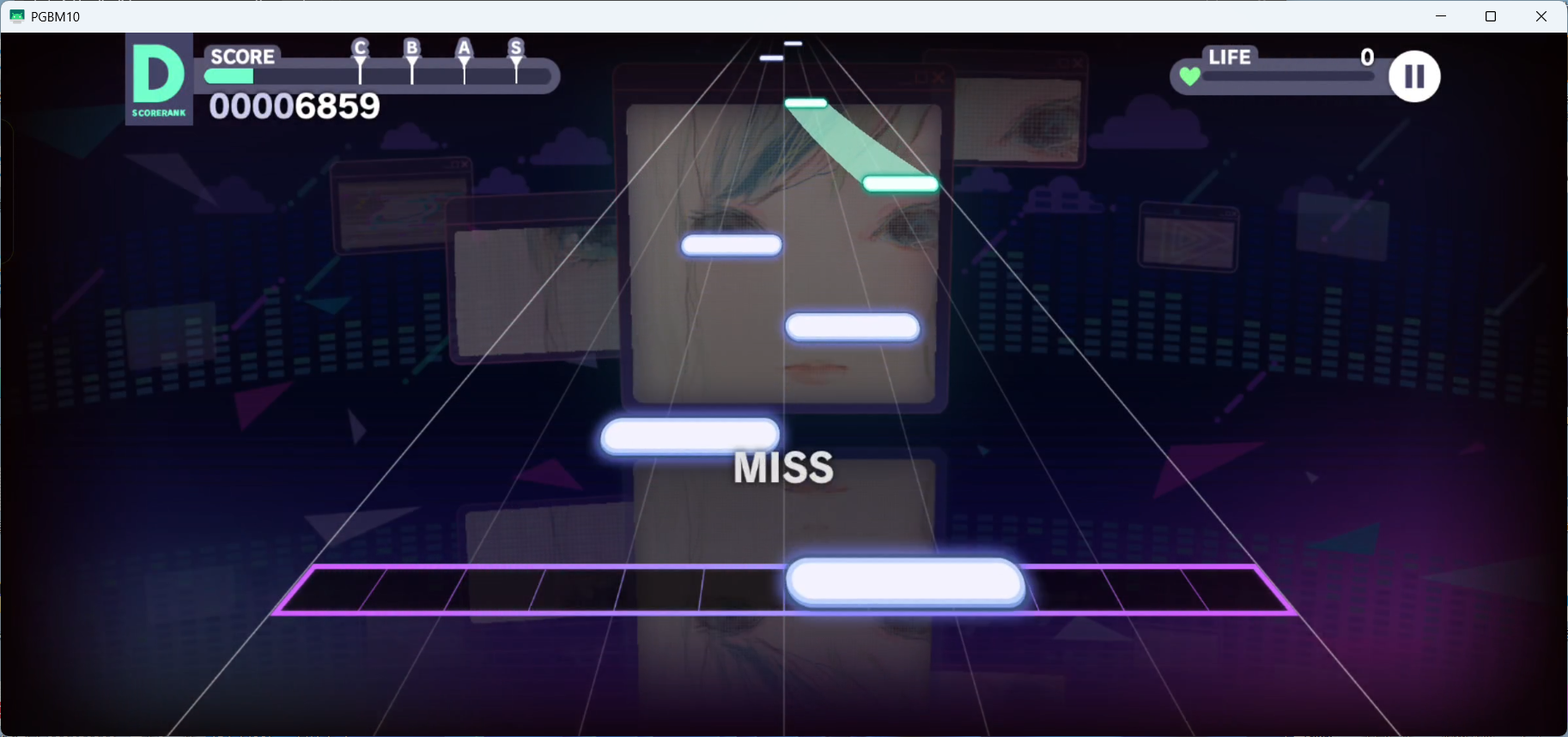hold: (787, 106, 925, 175)
tap: (786, 558, 1025, 607), (600, 419, 781, 456), (785, 312, 921, 344), (682, 234, 781, 256), (862, 175, 938, 193), (783, 98, 827, 108), (759, 55, 783, 60), (784, 40, 802, 45)
